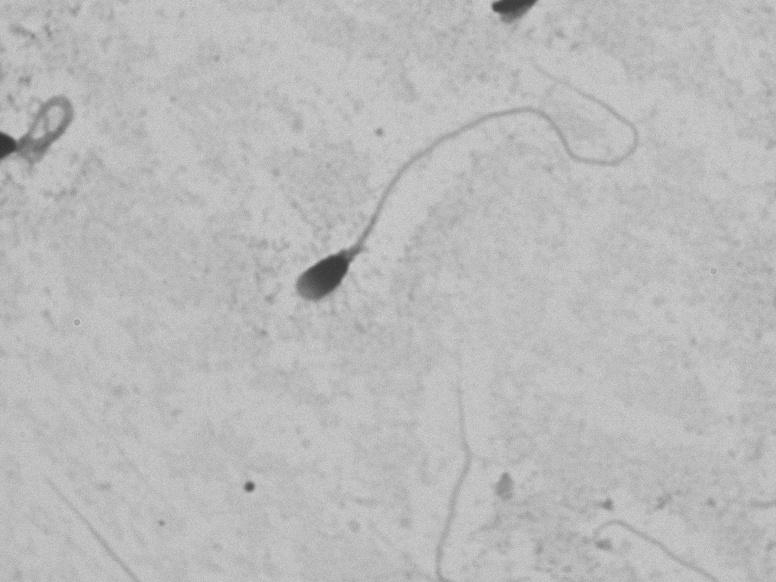Normal: (268, 38, 672, 329)
